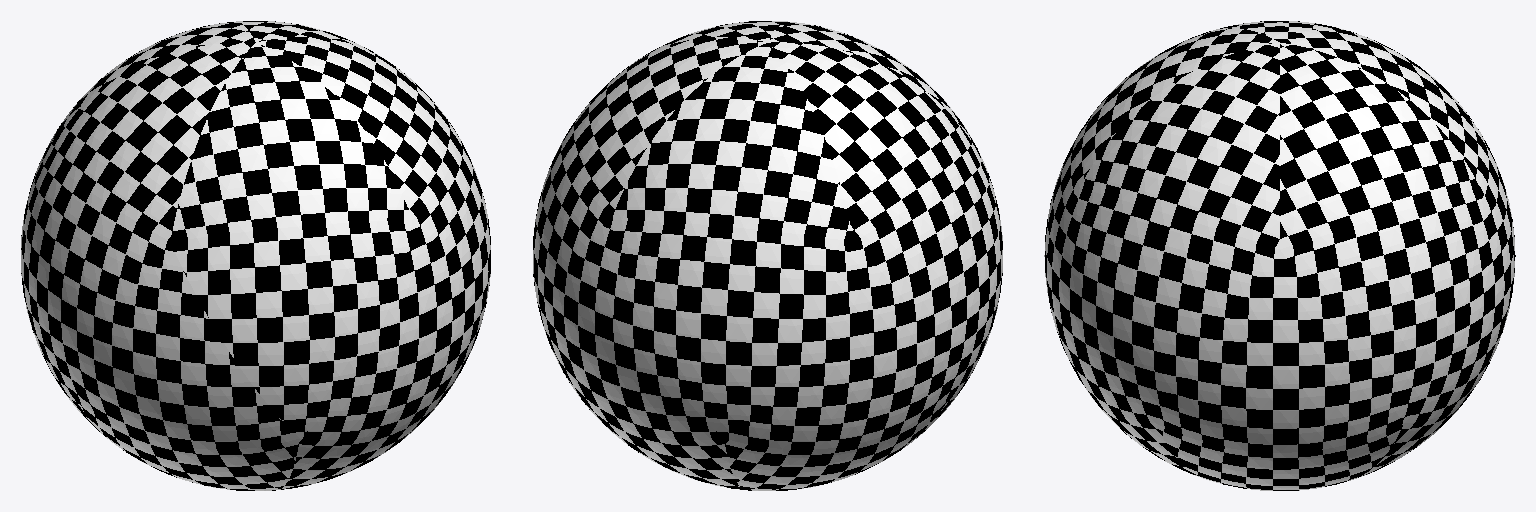
The picture shows the model from 3 angles: view 1: azimuth 30°, elevation 25°; view 2: azimuth 150°, elevation 25°; view 3: azimuth 270°, elevation 25°; orthographic projection.
Parts seen in each view (by area): view 1: Icosphere; view 2: Icosphere; view 3: Icosphere.
Boxes of the visible parts, x1,y1,x2,y2 form: Icosphere: [21, 21, 490, 490]; Icosphere: [533, 21, 1002, 490]; Icosphere: [1044, 21, 1515, 490].
Size of the model in its own units: 2 by 2 by 2.
1 materials, 1 textured.